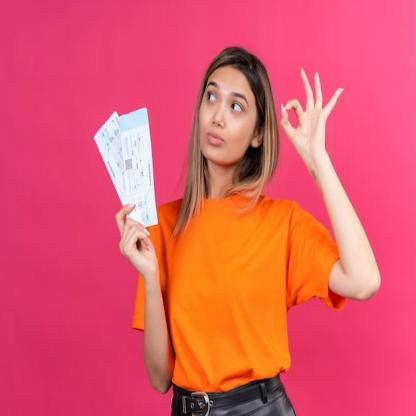ok: (280, 66, 346, 156)
